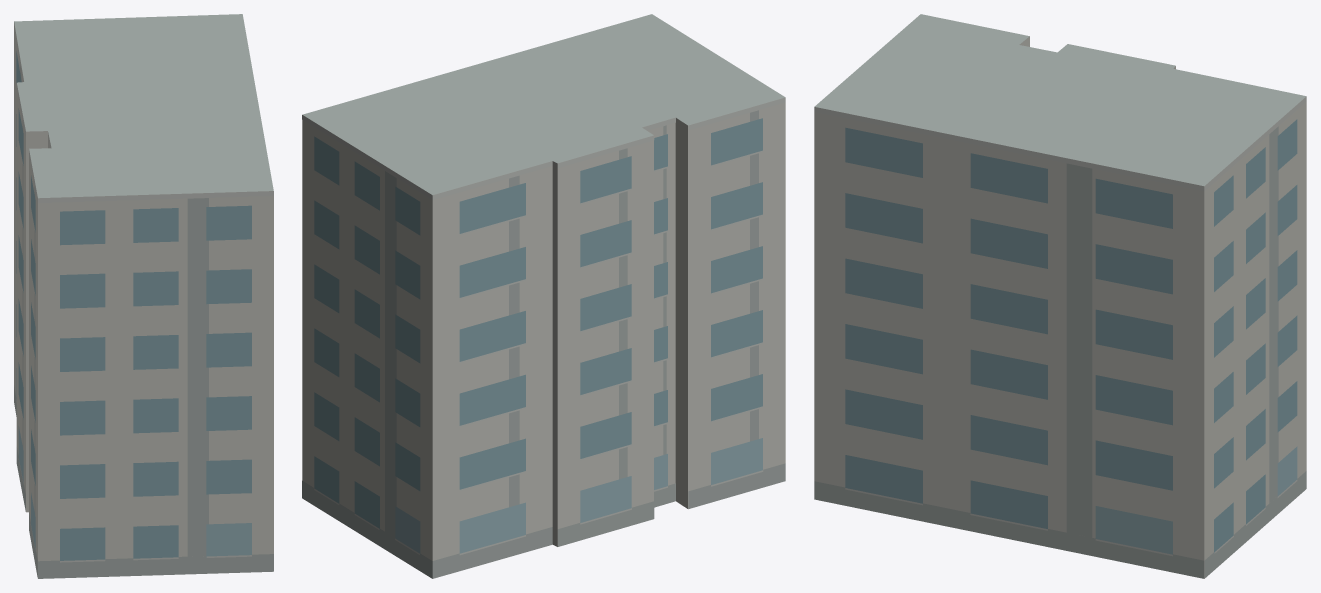
The model's file is survey-upis-33045463.glb.
3 renders of one model, left to right at view 1: azimuth 30°, elevation 25°; view 2: azimuth 150°, elevation 25°; view 3: azimuth 270°, elevation 25°, orthographic. The views are drawn at different scales.
Visible parts, largest first — view 1: survey-upis-33045463.tmp; view 2: survey-upis-33045463.tmp; view 3: survey-upis-33045463.tmp.
Part boxes in pixels (x1=…): survey-upis-33045463.tmp: x1=14, y1=14, x2=273, y2=578; survey-upis-33045463.tmp: x1=302, y1=14, x2=785, y2=578; survey-upis-33045463.tmp: x1=814, y1=14, x2=1306, y2=578.
Bounding box in the file's own units: 17.28 × 18.36 × 20.87.
